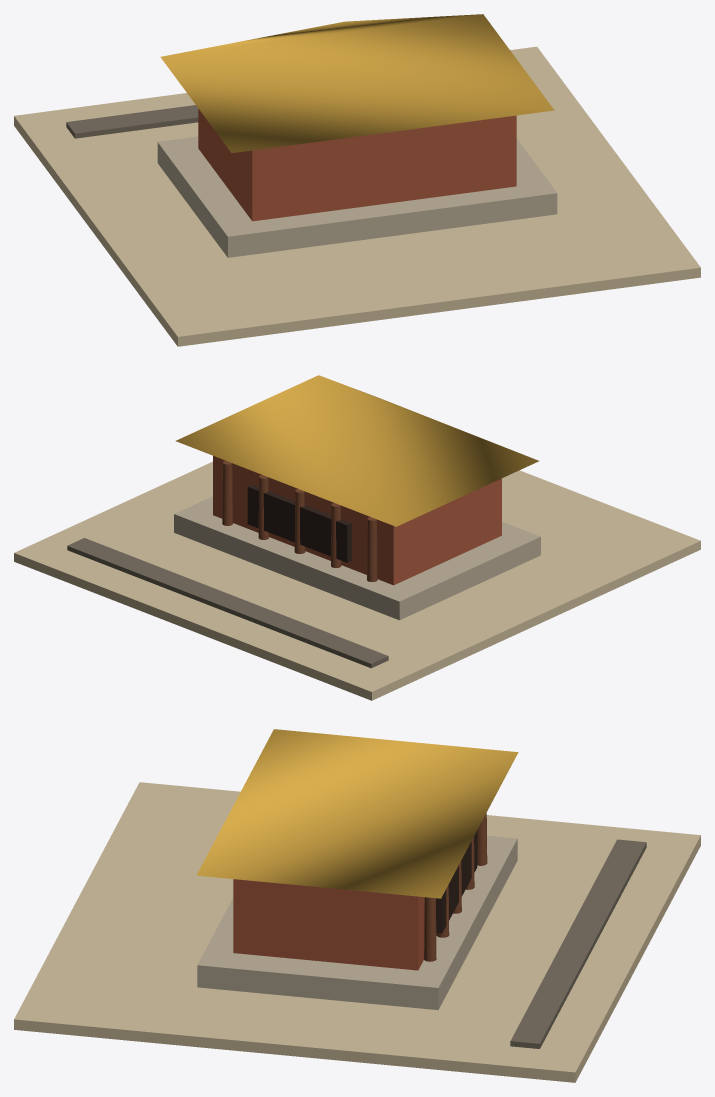
The model's file is model-medium.glb.
3 renders of one model, top to bottom at view 1: azimuth 30°, elevation 25°; view 2: azimuth 150°, elevation 25°; view 3: azimuth 270°, elevation 25°, orthographic. The views are drawn at different scales.
Visible parts, largest first — view 1: context_site_plinth, sweeping_tiled_roof, main_hall_wall_volume, raised_ceremonial_platform, front_scale_strip; view 2: context_site_plinth, sweeping_tiled_roof, raised_ceremonial_platform, main_hall_wall_volume, front_scale_strip, central_shadow_door, front_column_5, front_column_1; view 3: context_site_plinth, sweeping_tiled_roof, raised_ceremonial_platform, main_hall_wall_volume, front_scale_strip, central_shadow_door, front_column_5.
Boxes of the visible parts, x1,y1,x2,y2 form: context_site_plinth: (14,46,700,346); sweeping_tiled_roof: (160,14,554,152); main_hall_wall_volume: (198,108,516,221); raised_ceremonial_platform: (157,136,557,257); front_scale_strip: (66,105,198,138); context_site_plinth: (14,461,700,700); sweeping_tiled_roof: (176,375,538,526); raised_ceremonial_platform: (174,496,540,620); main_hall_wall_volume: (213,456,501,585); front_scale_strip: (67,538,388,668); central_shadow_door: (247,484,351,562); front_column_5: (222,460,232,525); front_column_1: (367,517,377,581); context_site_plinth: (14,782,700,1082); sweeping_tiled_roof: (196,729,518,898); raised_ceremonial_platform: (197,835,517,1010); main_hall_wall_volume: (233,879,436,970); front_scale_strip: (510,839,646,1048); central_shadow_door: (436,831,477,933); front_column_5: (424,897,436,961).
Bounding box in the file's own units: 9.55 × 2.62 × 9.55.
